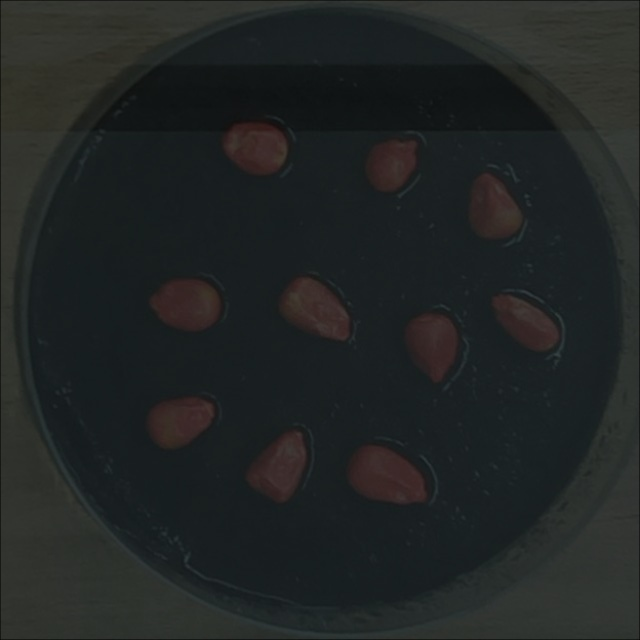Zea mays: (337, 437, 430, 510), (271, 270, 356, 348), (238, 421, 311, 508), (483, 285, 564, 358), (397, 305, 465, 389), (139, 388, 222, 455), (142, 272, 226, 337), (460, 168, 528, 248), (214, 114, 293, 182), (355, 130, 421, 200)
